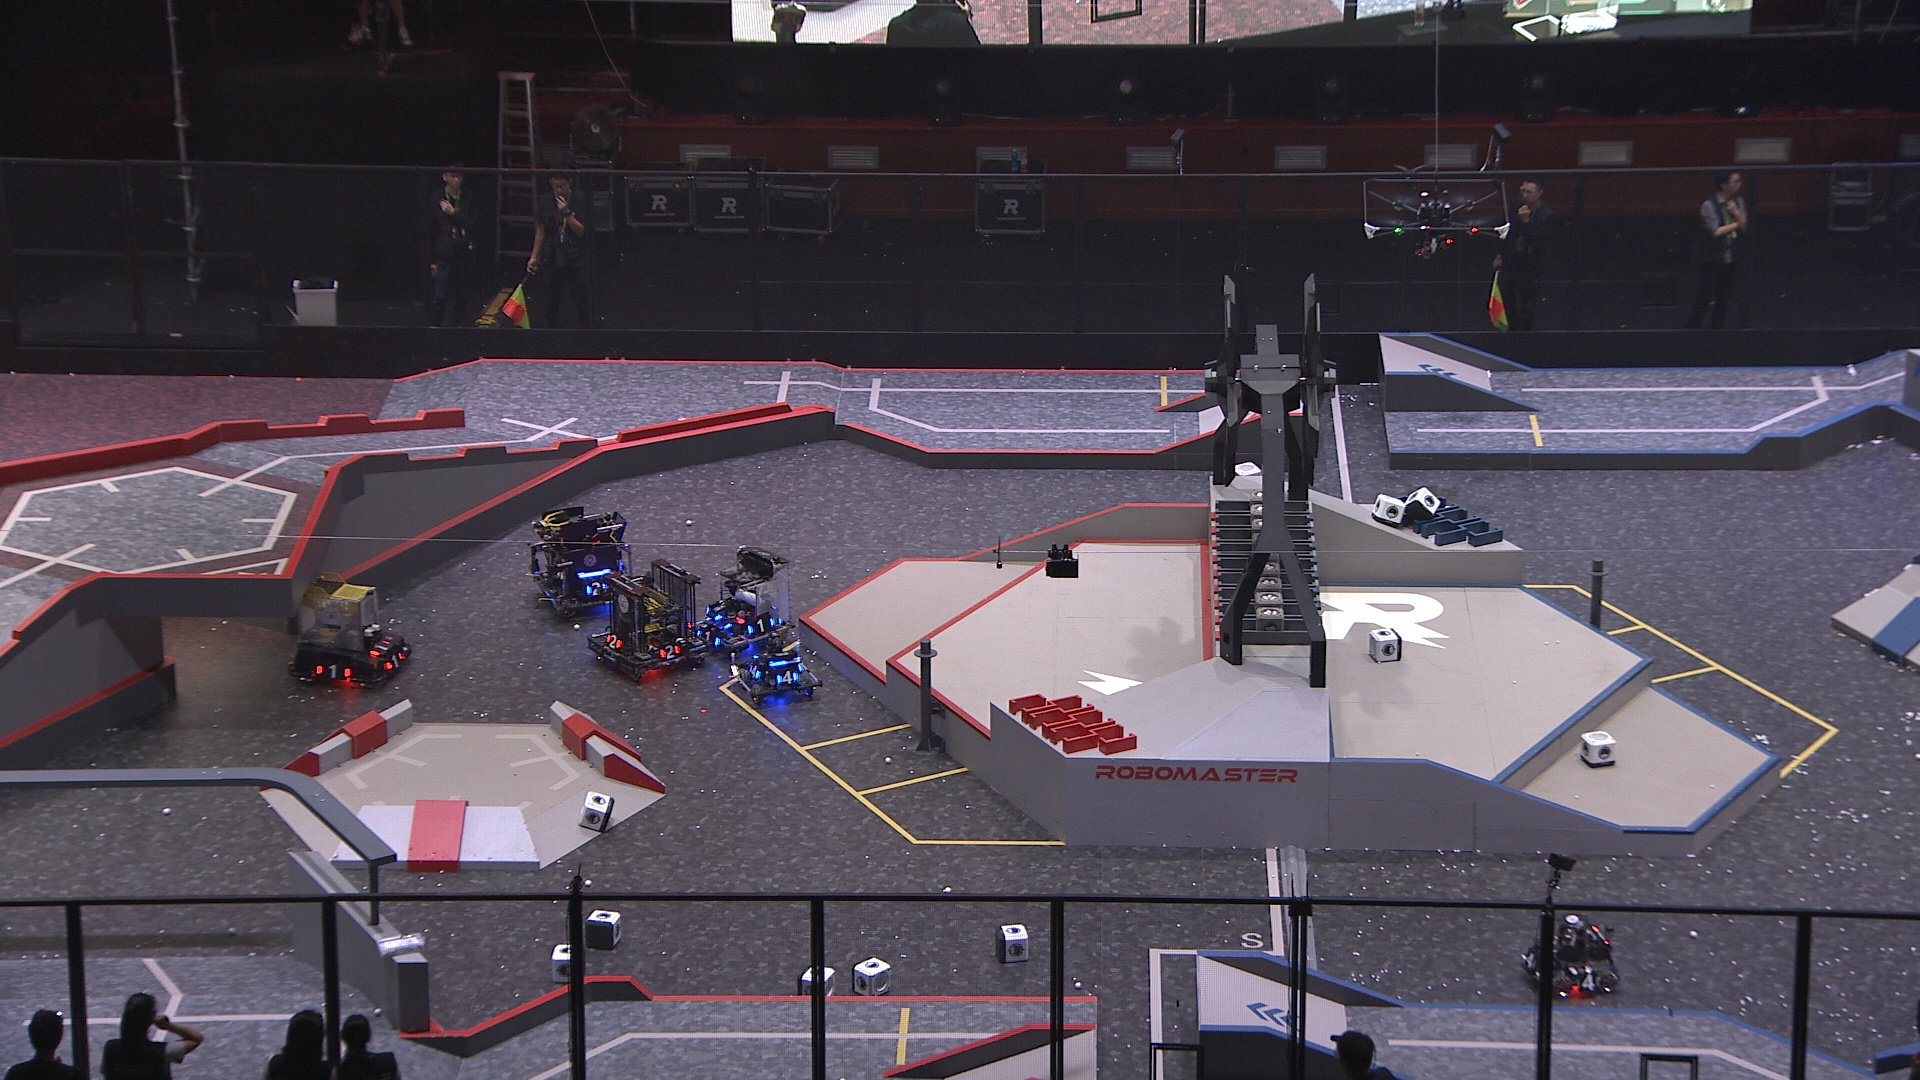armor: (313, 662, 353, 680), (745, 612, 775, 636), (1576, 972, 1604, 993), (367, 633, 392, 655), (378, 651, 405, 673), (698, 626, 723, 647), (585, 578, 611, 599), (600, 632, 626, 651), (659, 644, 684, 661), (775, 670, 798, 687), (746, 659, 764, 680), (1522, 948, 1538, 971)
car: (282, 568, 419, 687), (584, 560, 707, 679), (688, 543, 800, 657), (526, 505, 636, 617), (1518, 913, 1625, 1005), (728, 632, 828, 704)
